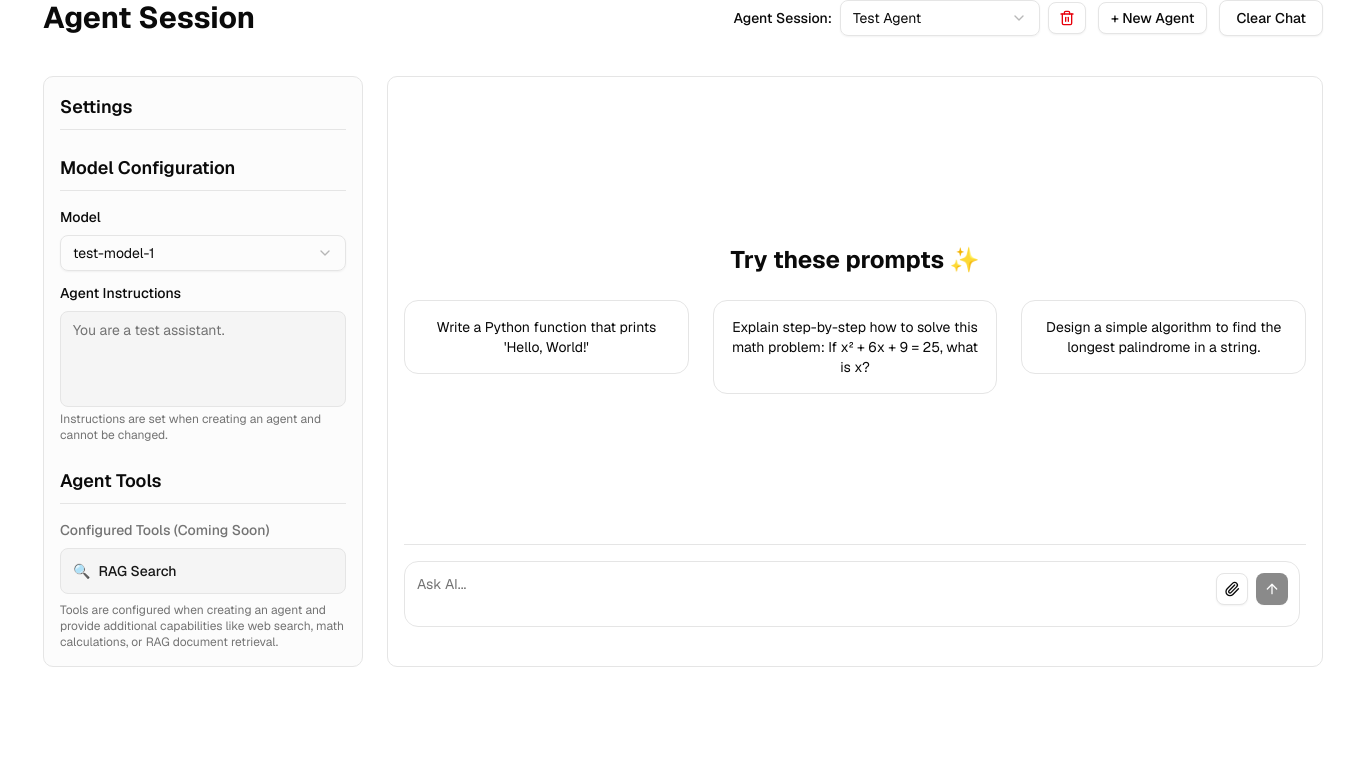
Test: ChatPlaygroundPage › Agent Creation Modal › closes modal when Cancel is clicked
The width and height of the screenshot is (1366, 768).
Click the button "+ New Agent" at (1153, 18), box [1098,2,1207,34]
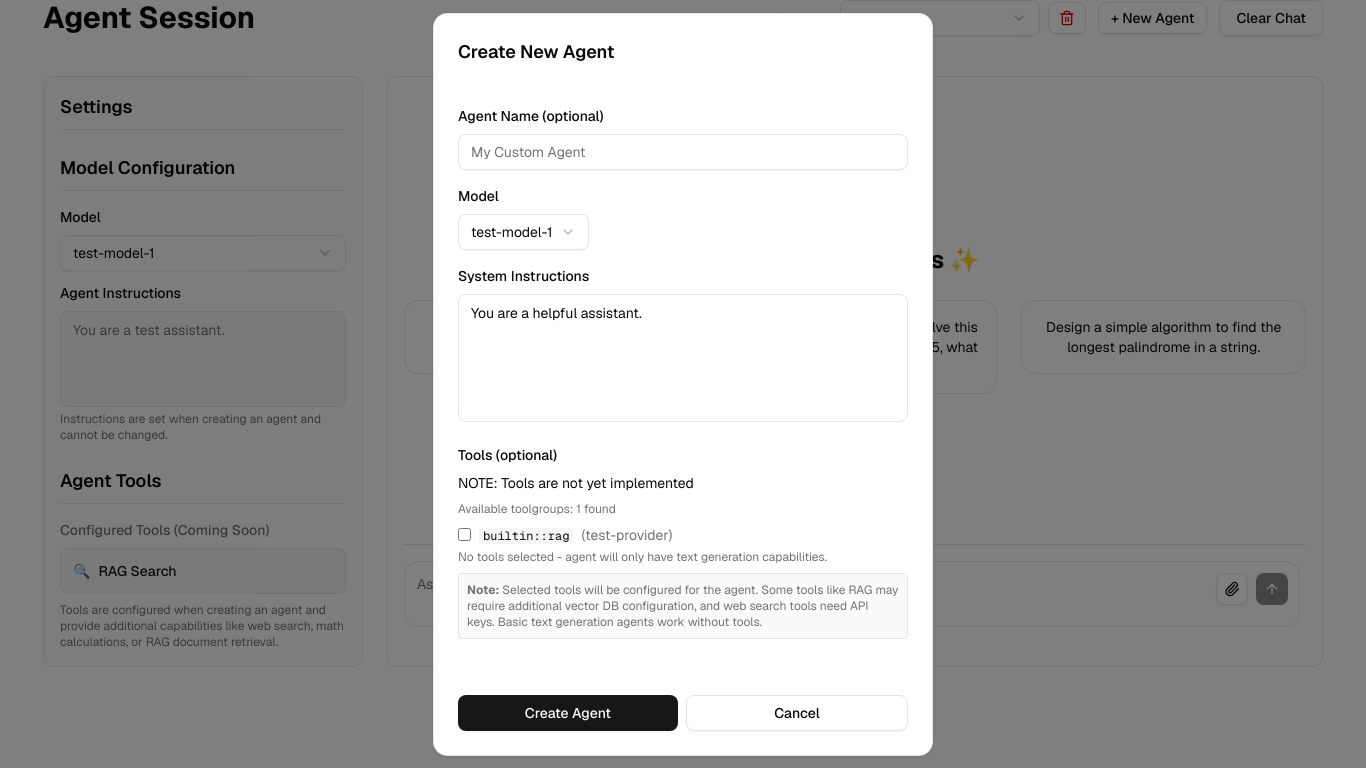
Click the button "Cancel" at (797, 712), box [686,694,908,730]
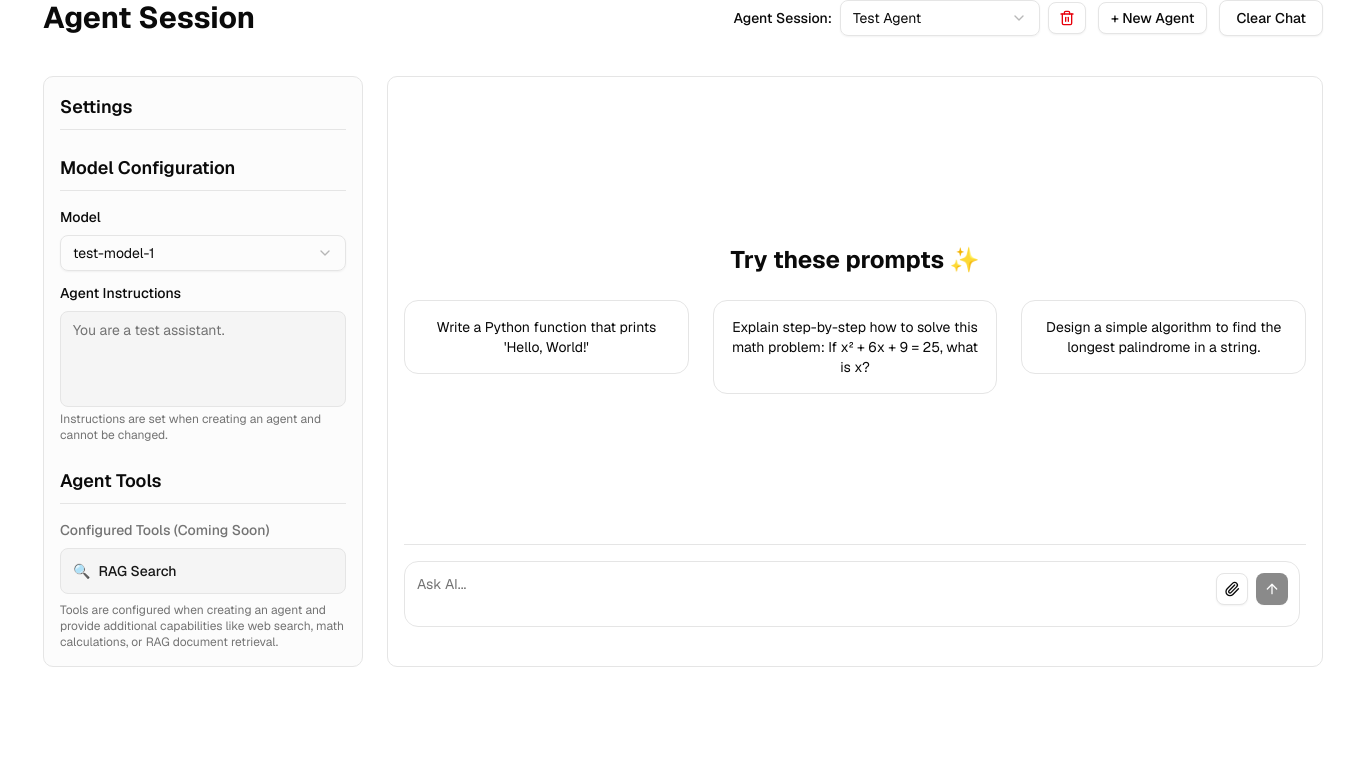
Now the heading "Create New Agent" is gone
